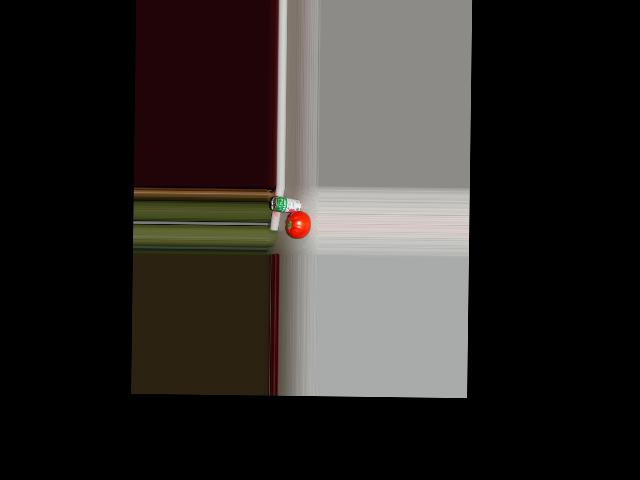tomato: (287, 211, 311, 239)
